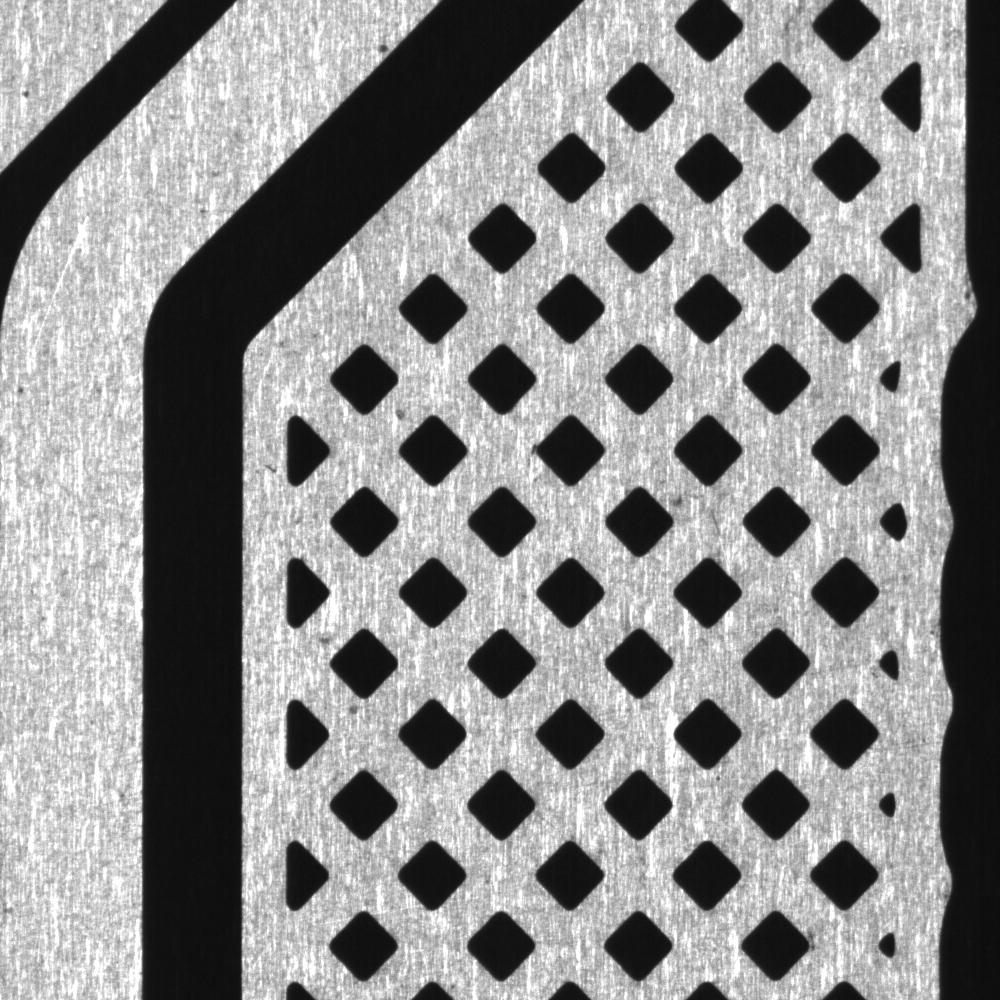Discolor: (657, 476, 722, 533)
Etching: (337, 692, 369, 728)
Pinhole: (358, 24, 404, 61), (6, 381, 40, 409), (9, 81, 47, 105)
Scar: (12, 188, 107, 371)
